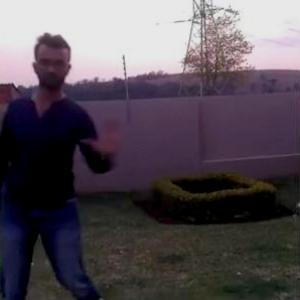follow_hand: (80, 117, 123, 161)
